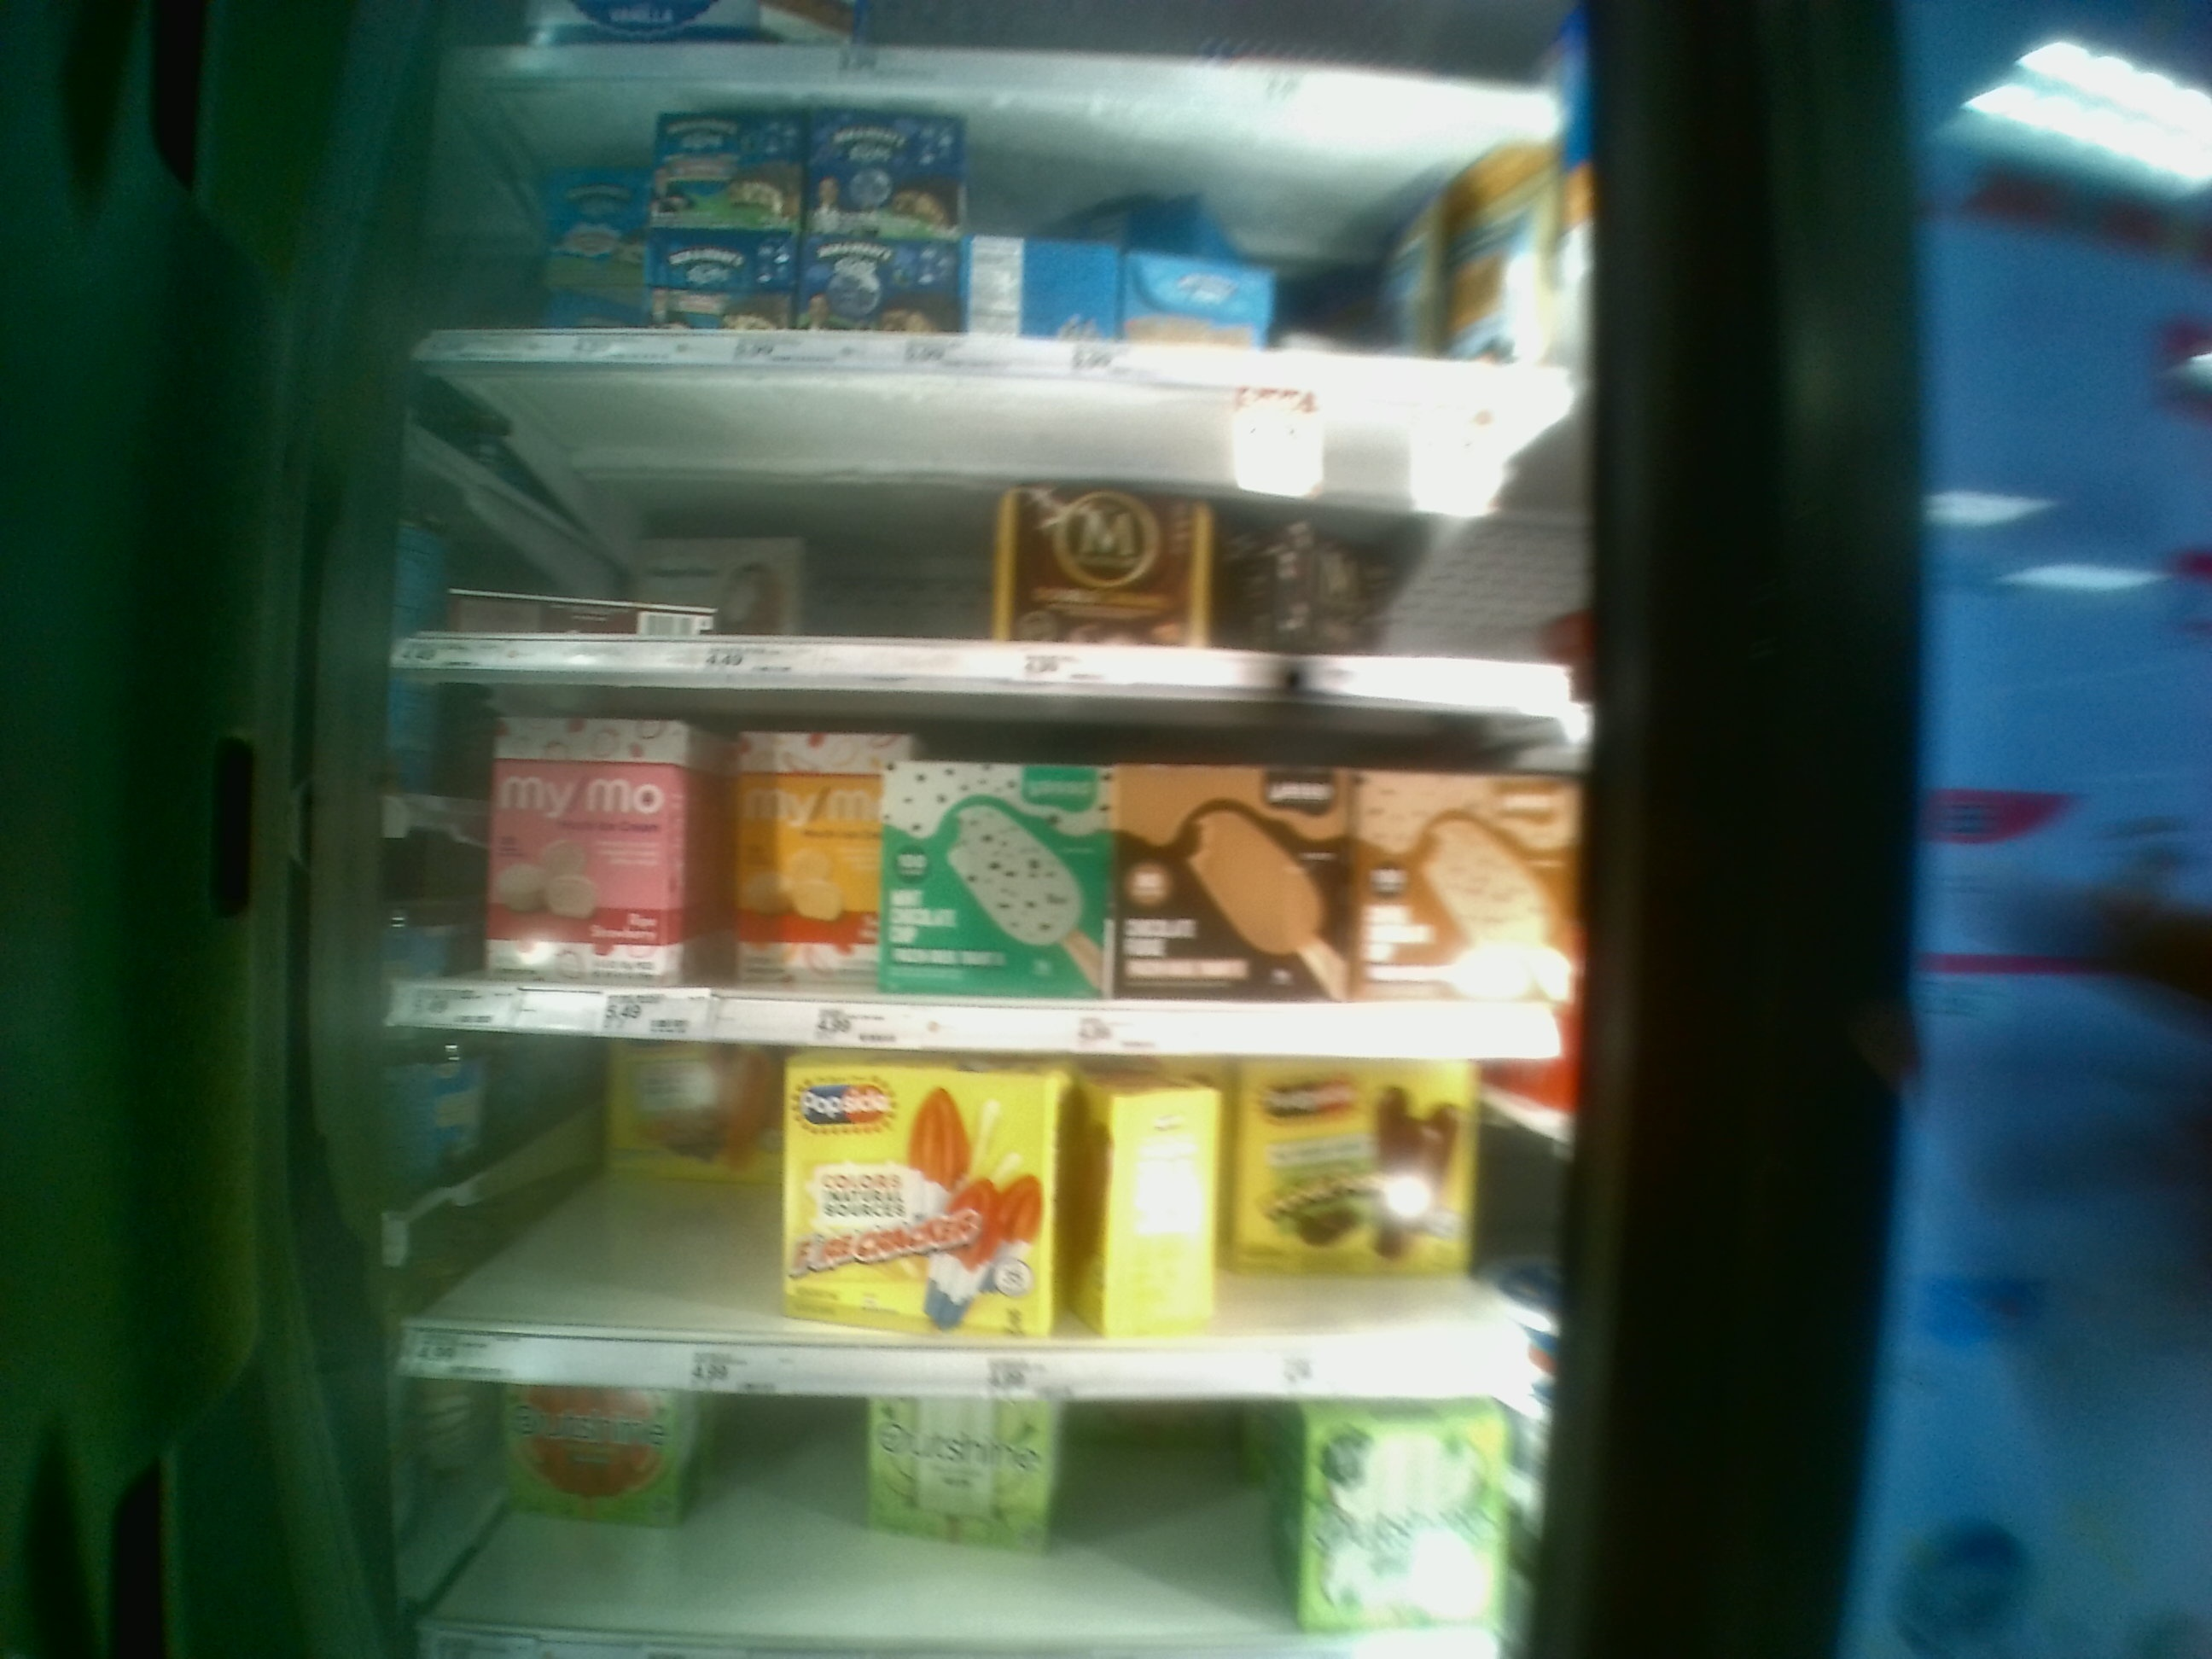ice-cream-shelf: (371, 673, 1555, 1060), (381, 1044, 1575, 1401)
